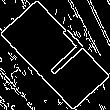L_SW: (25, 26, 85, 84)
